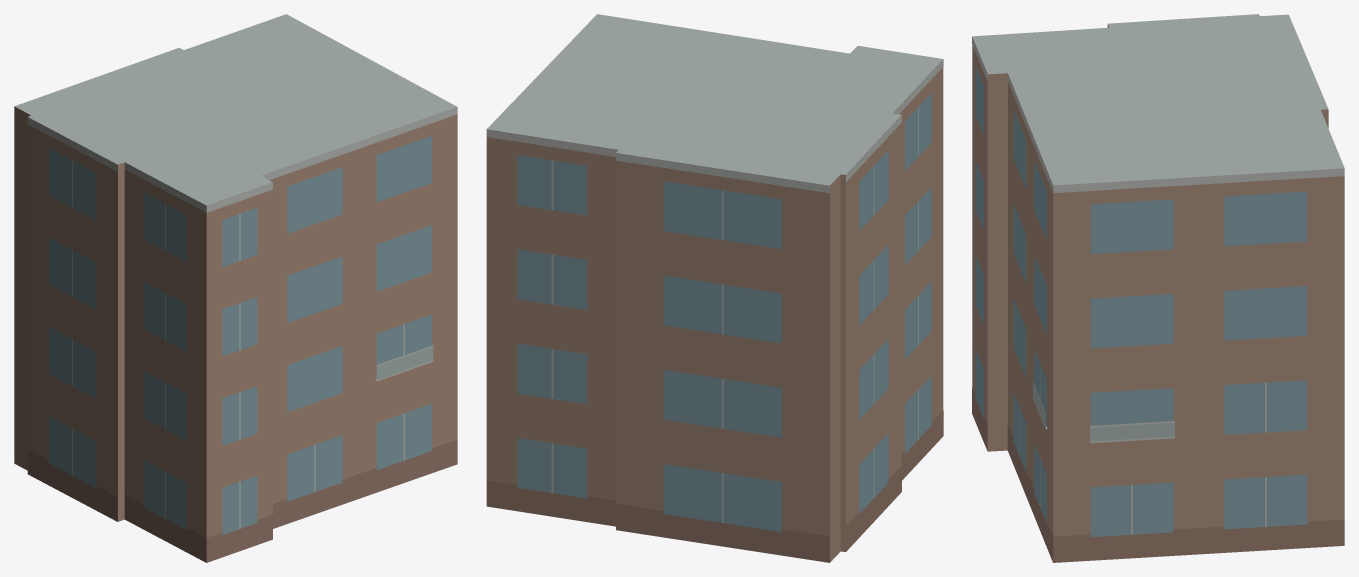
Rendered from survey-upis-33011315.glb.
The picture shows the model from 3 angles, left to right: view 1: azimuth 30°, elevation 25°; view 2: azimuth 150°, elevation 25°; view 3: azimuth 270°, elevation 25°; orthographic projection. The views are drawn at different scales.
Visible parts, largest first — view 1: survey-upis-33011315.tmp; view 2: survey-upis-33011315.tmp; view 3: survey-upis-33011315.tmp.
Part boxes in pixels (<box>): survey-upis-33011315.tmp: <box>14,14,457,562</box>; survey-upis-33011315.tmp: <box>486,14,943,562</box>; survey-upis-33011315.tmp: <box>972,14,1344,562</box>.
Size of the model in its own units: 11.71 by 12 by 10.75.
